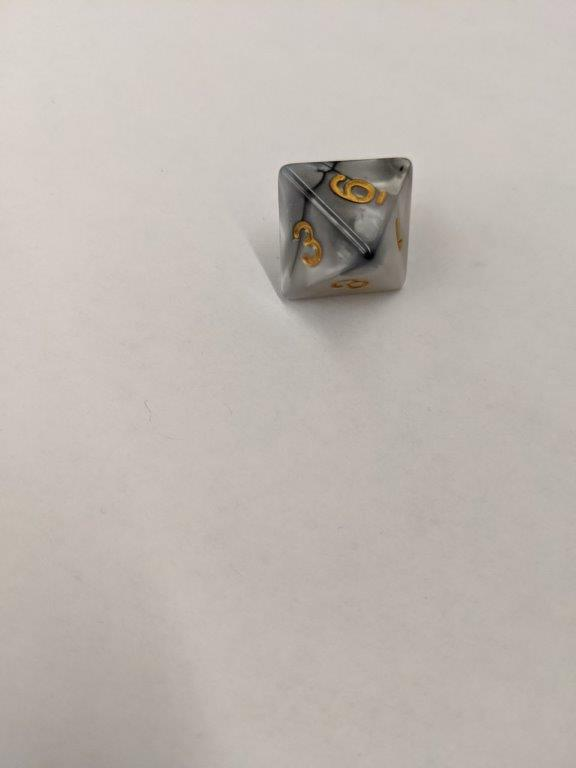d8-6: (275, 150, 414, 299)
